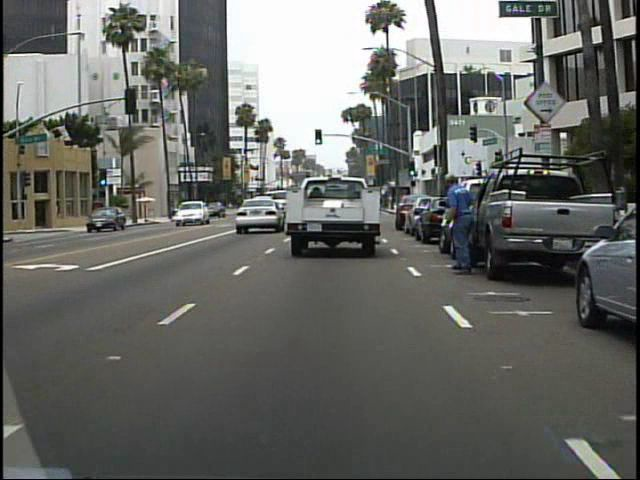person: (433, 172, 486, 280)
